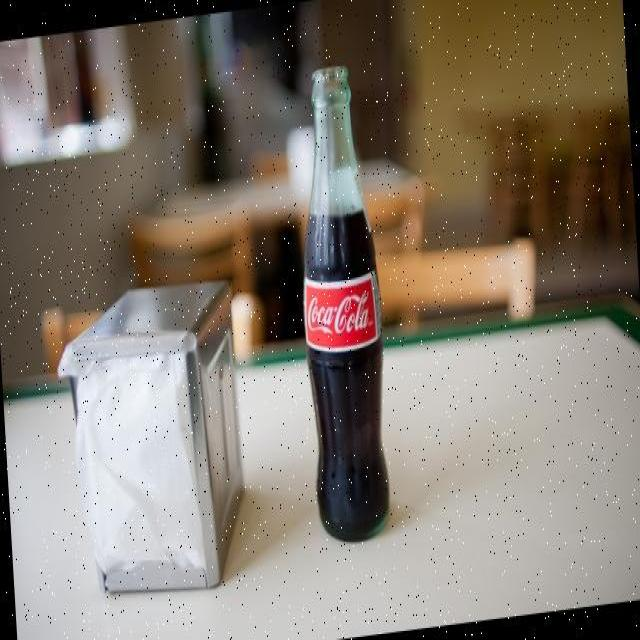coca-cola: (290, 56, 398, 551)
